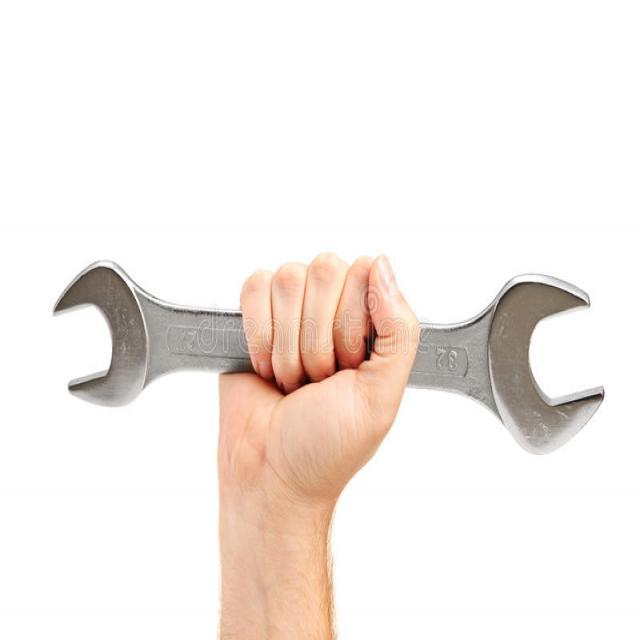wrench: (46, 254, 609, 459)
